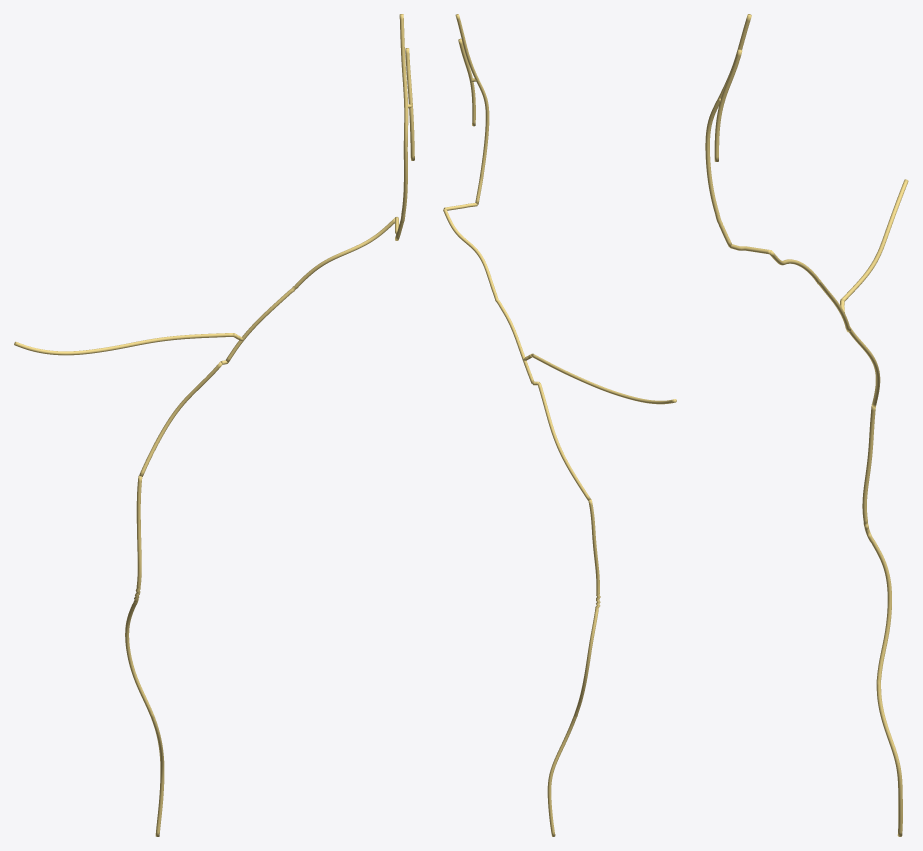
Rendered from mesenteric-plexus.glb.
The picture shows the model from 3 angles, left to right: view 1: azimuth 30°, elevation 25°; view 2: azimuth 150°, elevation 25°; view 3: azimuth 270°, elevation 25°; orthographic projection. The views are drawn at different scales.
Parts seen in each view (by area): view 1: VMRA_SMA_PLEXUS_01, VMRA_APPENDICULAR_AUTONOMIC_PATH_01, VMRA_ASCENDING_AUTONOMIC_PATH_01; view 2: VMRA_SMA_PLEXUS_01, VMRA_APPENDICULAR_AUTONOMIC_PATH_01, VMRA_ASCENDING_AUTONOMIC_PATH_01; view 3: VMRA_APPENDICULAR_AUTONOMIC_PATH_01, VMRA_SMA_PLEXUS_01, VMRA_ASCENDING_AUTONOMIC_PATH_01.
Part boxes in pixels (bbox=[...]): VMRA_SMA_PLEXUS_01: bbox=[226, 14, 414, 362]; VMRA_APPENDICULAR_AUTONOMIC_PATH_01: bbox=[125, 360, 227, 836]; VMRA_ASCENDING_AUTONOMIC_PATH_01: bbox=[14, 333, 242, 355]; VMRA_SMA_PLEXUS_01: bbox=[443, 14, 534, 383]; VMRA_APPENDICULAR_AUTONOMIC_PATH_01: bbox=[532, 381, 600, 836]; VMRA_ASCENDING_AUTONOMIC_PATH_01: bbox=[523, 353, 676, 404]; VMRA_APPENDICULAR_AUTONOMIC_PATH_01: bbox=[845, 326, 902, 836]; VMRA_SMA_PLEXUS_01: bbox=[705, 14, 850, 332]; VMRA_ASCENDING_AUTONOMIC_PATH_01: bbox=[840, 179, 908, 313].
Size of the model in its own units: 0.0553 by 0.1357 by 0.0272.
